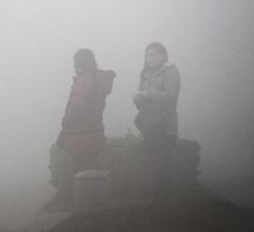person: (43, 47, 113, 212), (131, 41, 185, 138)
